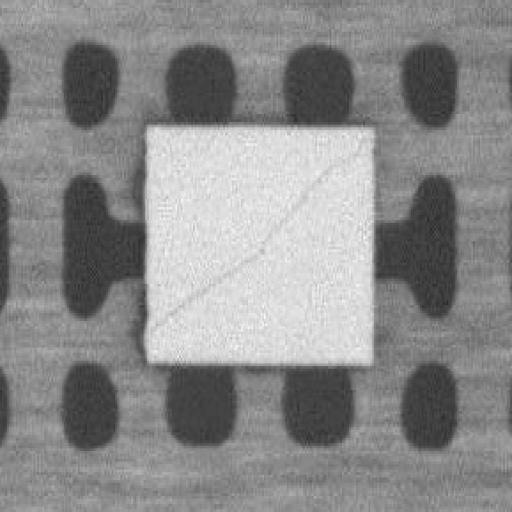DIE_CRACK: (145, 135, 365, 332)
